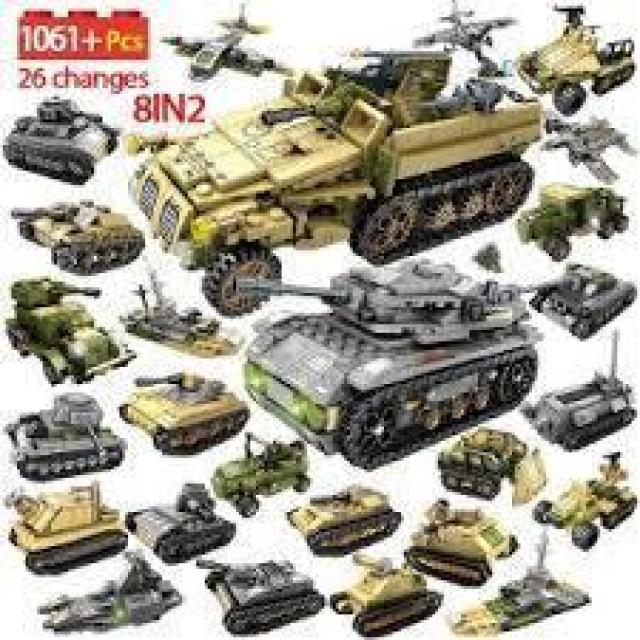Tanks: (130, 60, 530, 282), (250, 240, 518, 462), (8, 272, 114, 377), (130, 368, 244, 451), (22, 191, 136, 270), (3, 101, 108, 181), (524, 186, 628, 263), (7, 401, 115, 475), (9, 488, 125, 556), (209, 556, 314, 630), (533, 370, 636, 444), (536, 14, 627, 97), (418, 495, 512, 575), (343, 559, 439, 636), (51, 574, 182, 628), (132, 482, 224, 556), (546, 472, 629, 552), (136, 293, 239, 356), (538, 270, 628, 342), (302, 481, 389, 552), (218, 454, 306, 519), (445, 434, 528, 502)
